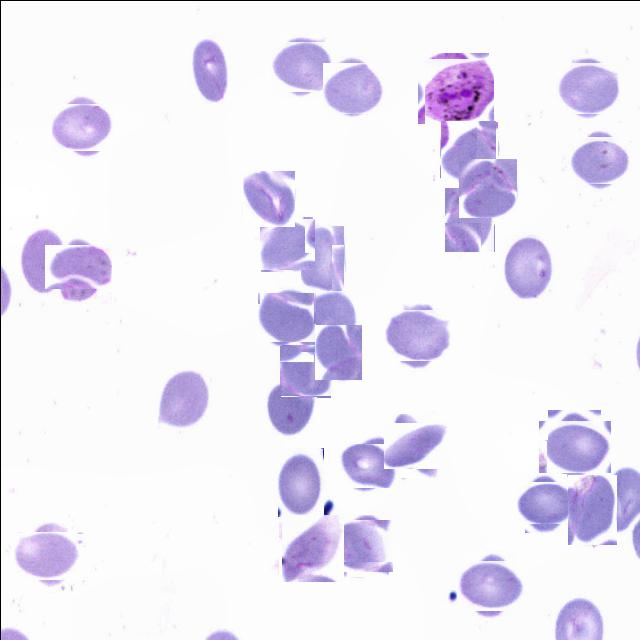red blood cell: (280, 514, 344, 580), (542, 414, 604, 477), (388, 304, 448, 364), (460, 554, 520, 614), (18, 526, 78, 585), (18, 223, 67, 295), (567, 474, 616, 544), (558, 58, 616, 117), (272, 36, 330, 94), (326, 58, 384, 116), (458, 158, 516, 216), (300, 290, 355, 351), (502, 234, 554, 298), (439, 120, 496, 178), (444, 186, 494, 252), (157, 369, 209, 432), (334, 517, 391, 574), (277, 447, 323, 516), (570, 132, 626, 188), (50, 238, 106, 294), (263, 380, 316, 438), (55, 99, 110, 154), (242, 170, 294, 227), (260, 290, 314, 344), (388, 418, 442, 472), (300, 224, 344, 290), (344, 438, 396, 492), (260, 217, 312, 270), (279, 344, 331, 396), (314, 324, 361, 379), (520, 477, 570, 528), (190, 38, 227, 102)
schizont: (420, 54, 490, 126)
